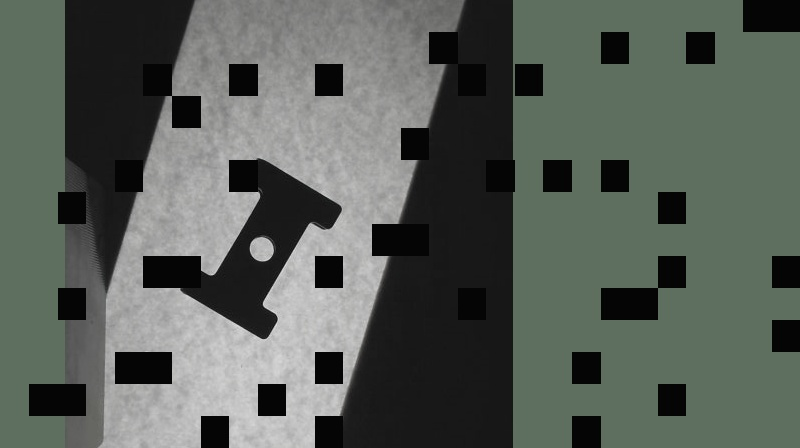O002: (178, 153, 342, 343)
